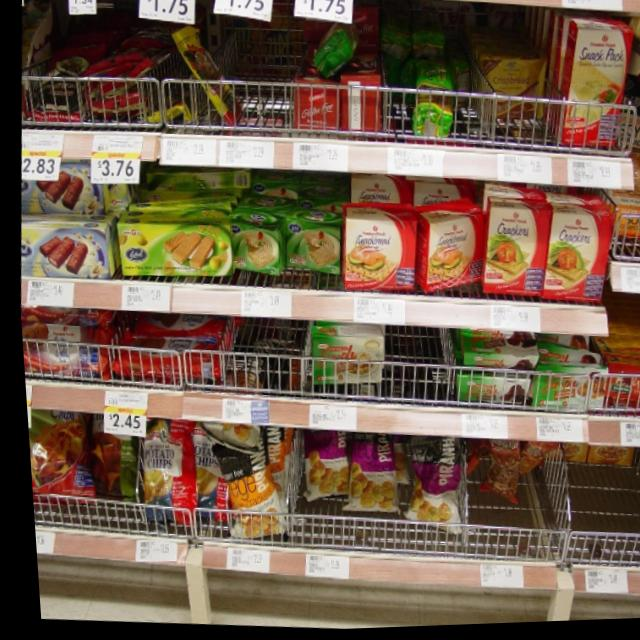q22: (333, 202, 429, 304), (474, 199, 555, 307), (536, 202, 614, 304), (418, 193, 487, 304)
